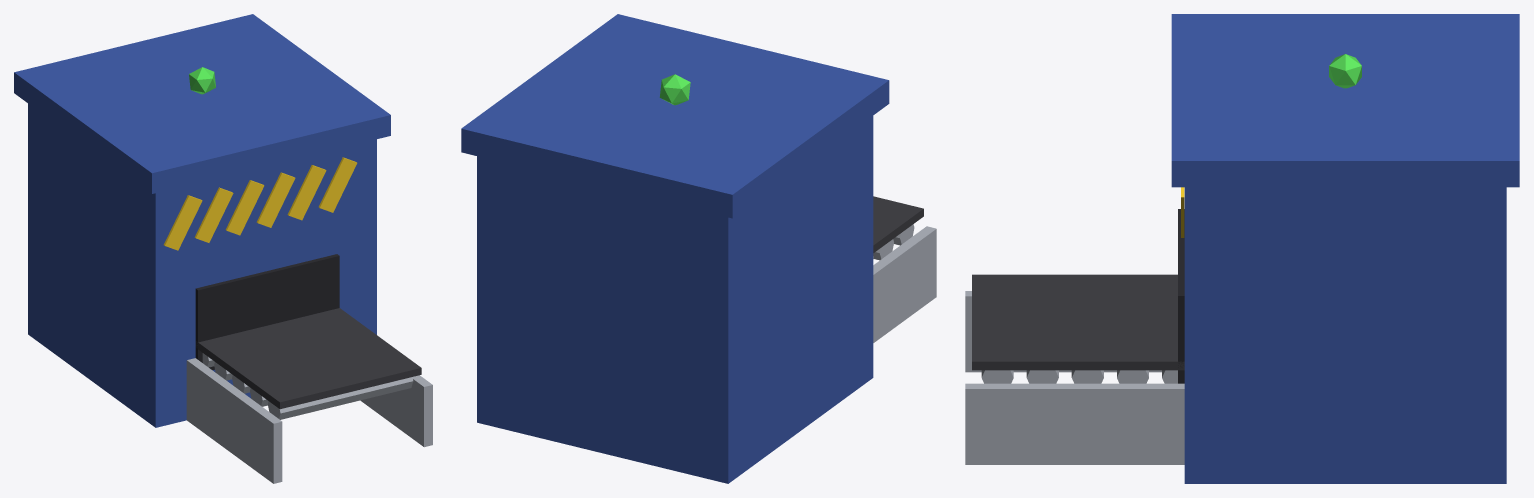
The model's file is MailChuteExpress.fbx.
3 renders of one model, left to right at view 1: azimuth 30°, elevation 25°; view 2: azimuth 150°, elevation 25°; view 3: azimuth 270°, elevation 25°, orthographic. The views are drawn at different scales.
Parts seen in each view (by area): view 1: Body, Belt, Rollers, Mouth, Hazard, Light; view 2: Body, Rollers, Belt, Light; view 3: Body, Rollers, Belt, Mouth, Light.
Boxes of the visible parts, <box> form: Body: <box>14,14,390,427</box>; Belt: <box>195,308,421,409</box>; Rollers: <box>186,353,432,483</box>; Mouth: <box>195,254,339,370</box>; Hazard: <box>163,157,357,250</box>; Light: <box>189,67,215,94</box>; Body: <box>461,14,889,483</box>; Rollers: <box>873,224,936,342</box>; Belt: <box>873,196,923,252</box>; Light: <box>659,74,690,105</box>; Body: <box>1171,14,1519,483</box>; Rollers: <box>965,291,1184,464</box>; Belt: <box>972,274,1184,370</box>; Mouth: <box>1178,209,1184,383</box>; Light: <box>1329,54,1361,88</box>.
Bounding box in the file's own units: 5.4 × 6.2 × 8.6.
